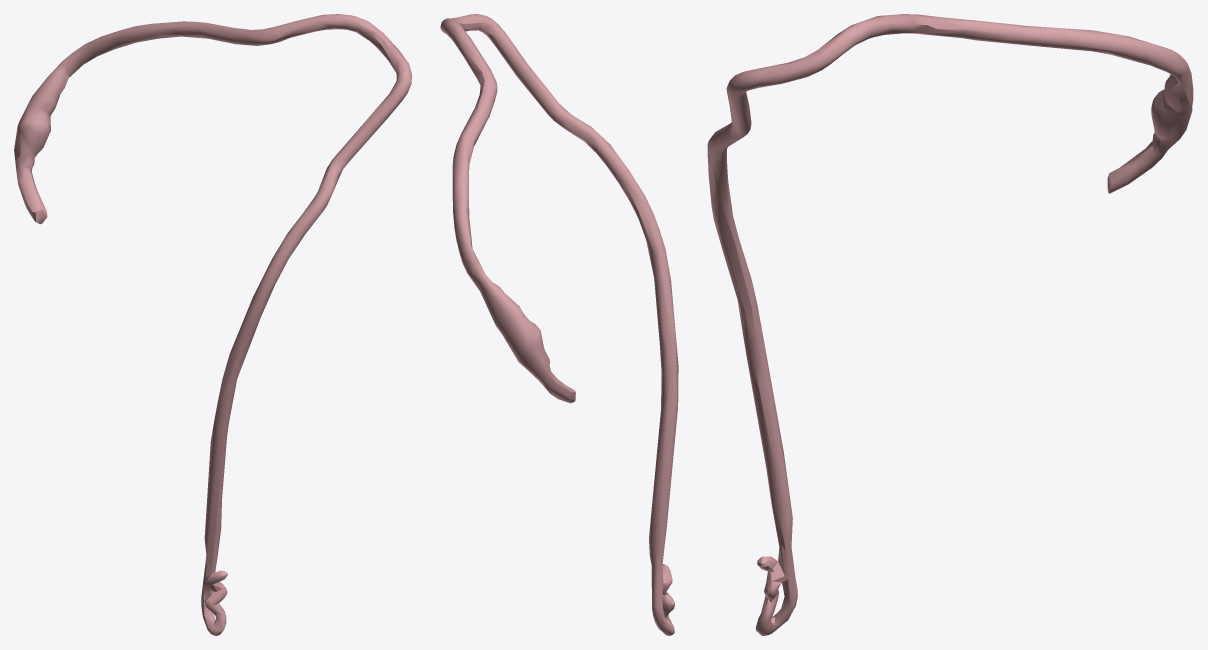
The model's file is fma19236.glb.
3 views of the same model, side by side, from view 1: azimuth 30°, elevation 25°; view 2: azimuth 150°, elevation 25°; view 3: azimuth 270°, elevation 25° (orthographic). The views are drawn at different scales.
Visible parts, largest first — view 1: FMA19236; view 2: FMA19236; view 3: FMA19236.
Boxes of the visible parts, x1,y1,x2,y2 form: FMA19236: [14, 14, 411, 635]; FMA19236: [440, 14, 678, 635]; FMA19236: [707, 14, 1193, 635].
Size of the model in its own units: 0.0758 by 0.1665 by 0.1028.
